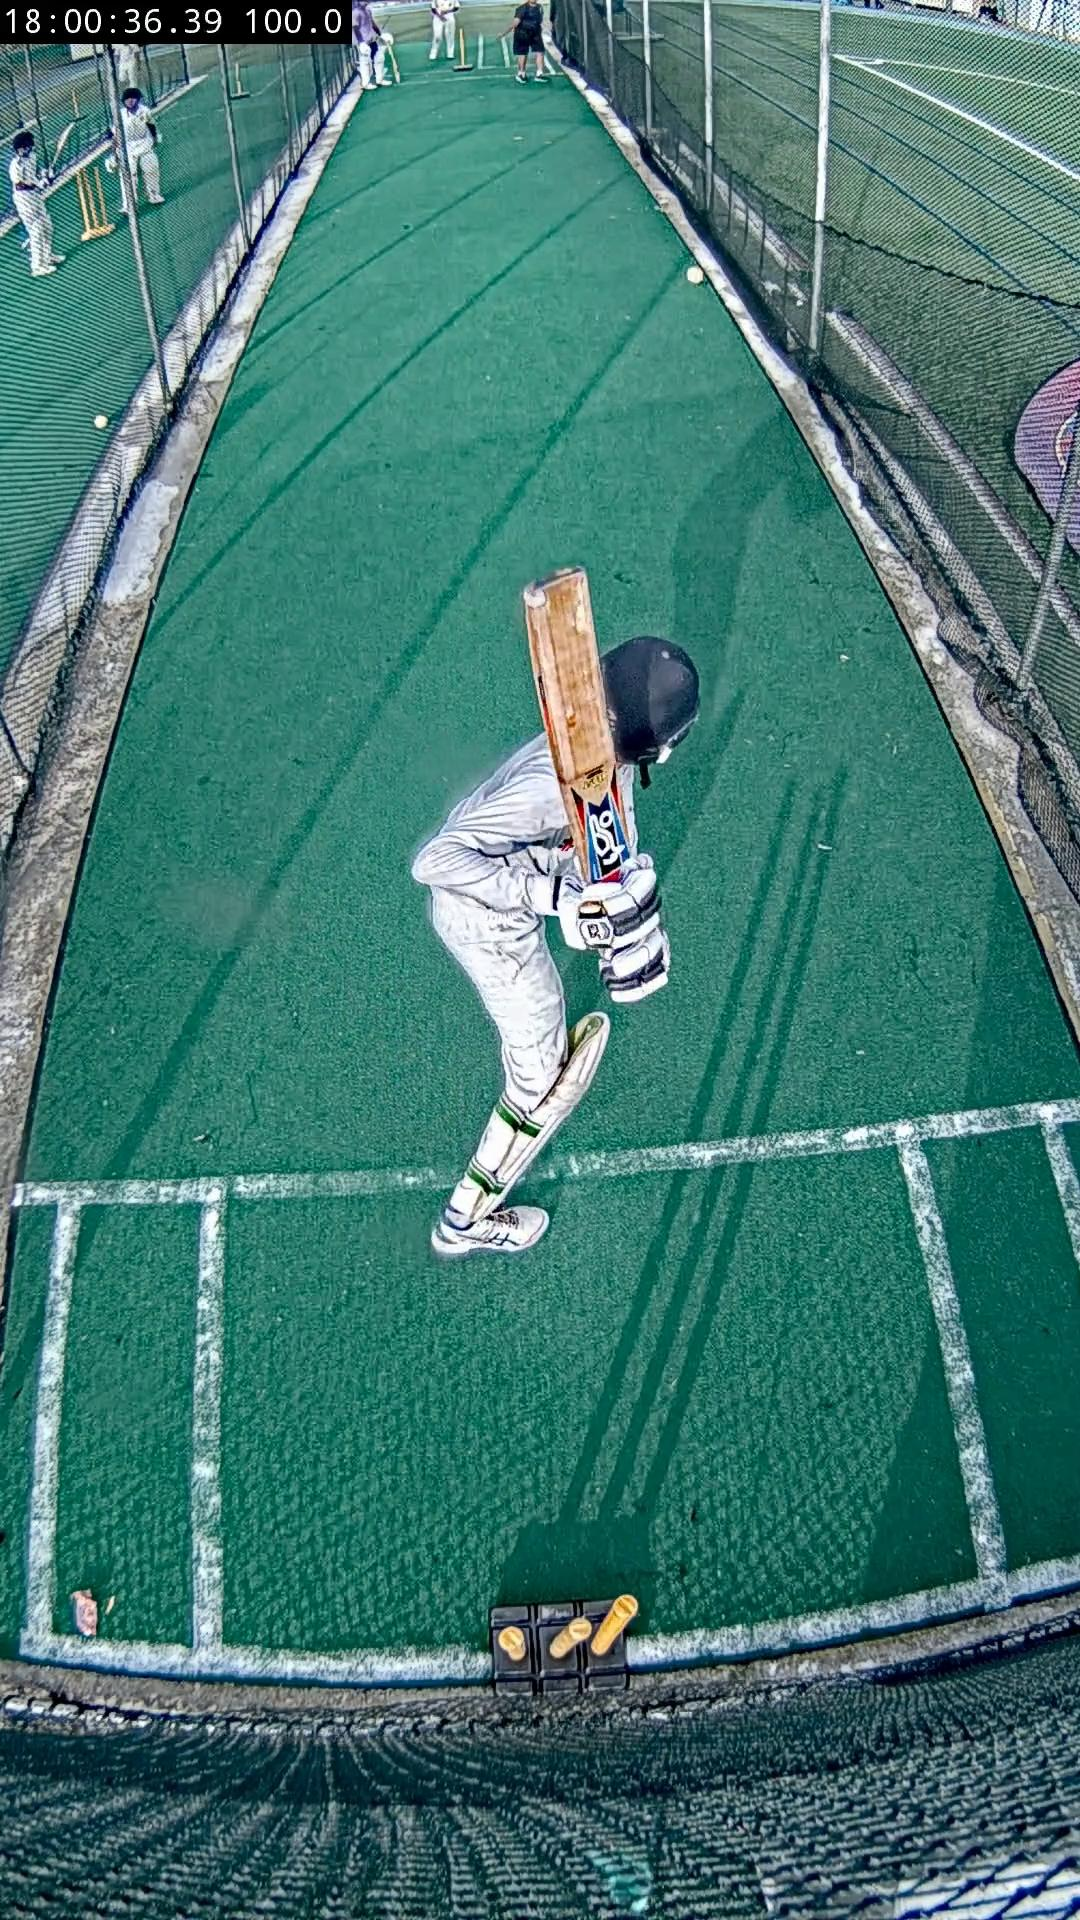ball: (686, 266, 705, 285)
bat: (525, 566, 630, 881)
gloves: (559, 855, 671, 1005)
helmet: (600, 637, 698, 765)
pads: (480, 1013, 612, 1213)
stumps: (492, 1594, 634, 1695)
